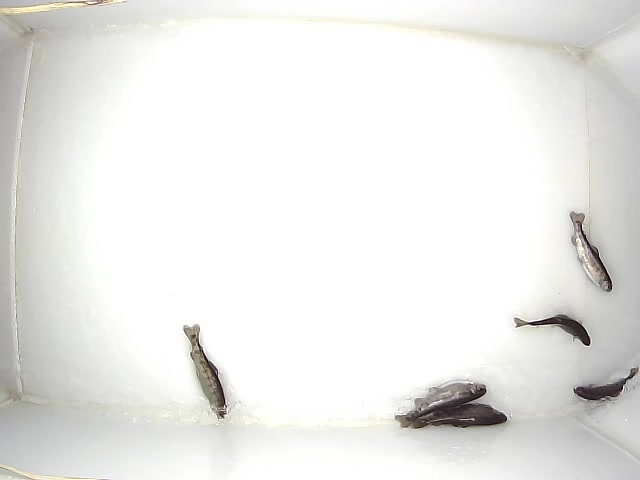fish: (395, 380, 487, 428), (183, 324, 227, 420), (569, 211, 612, 292), (405, 403, 507, 429), (514, 314, 591, 346), (573, 367, 638, 403)
